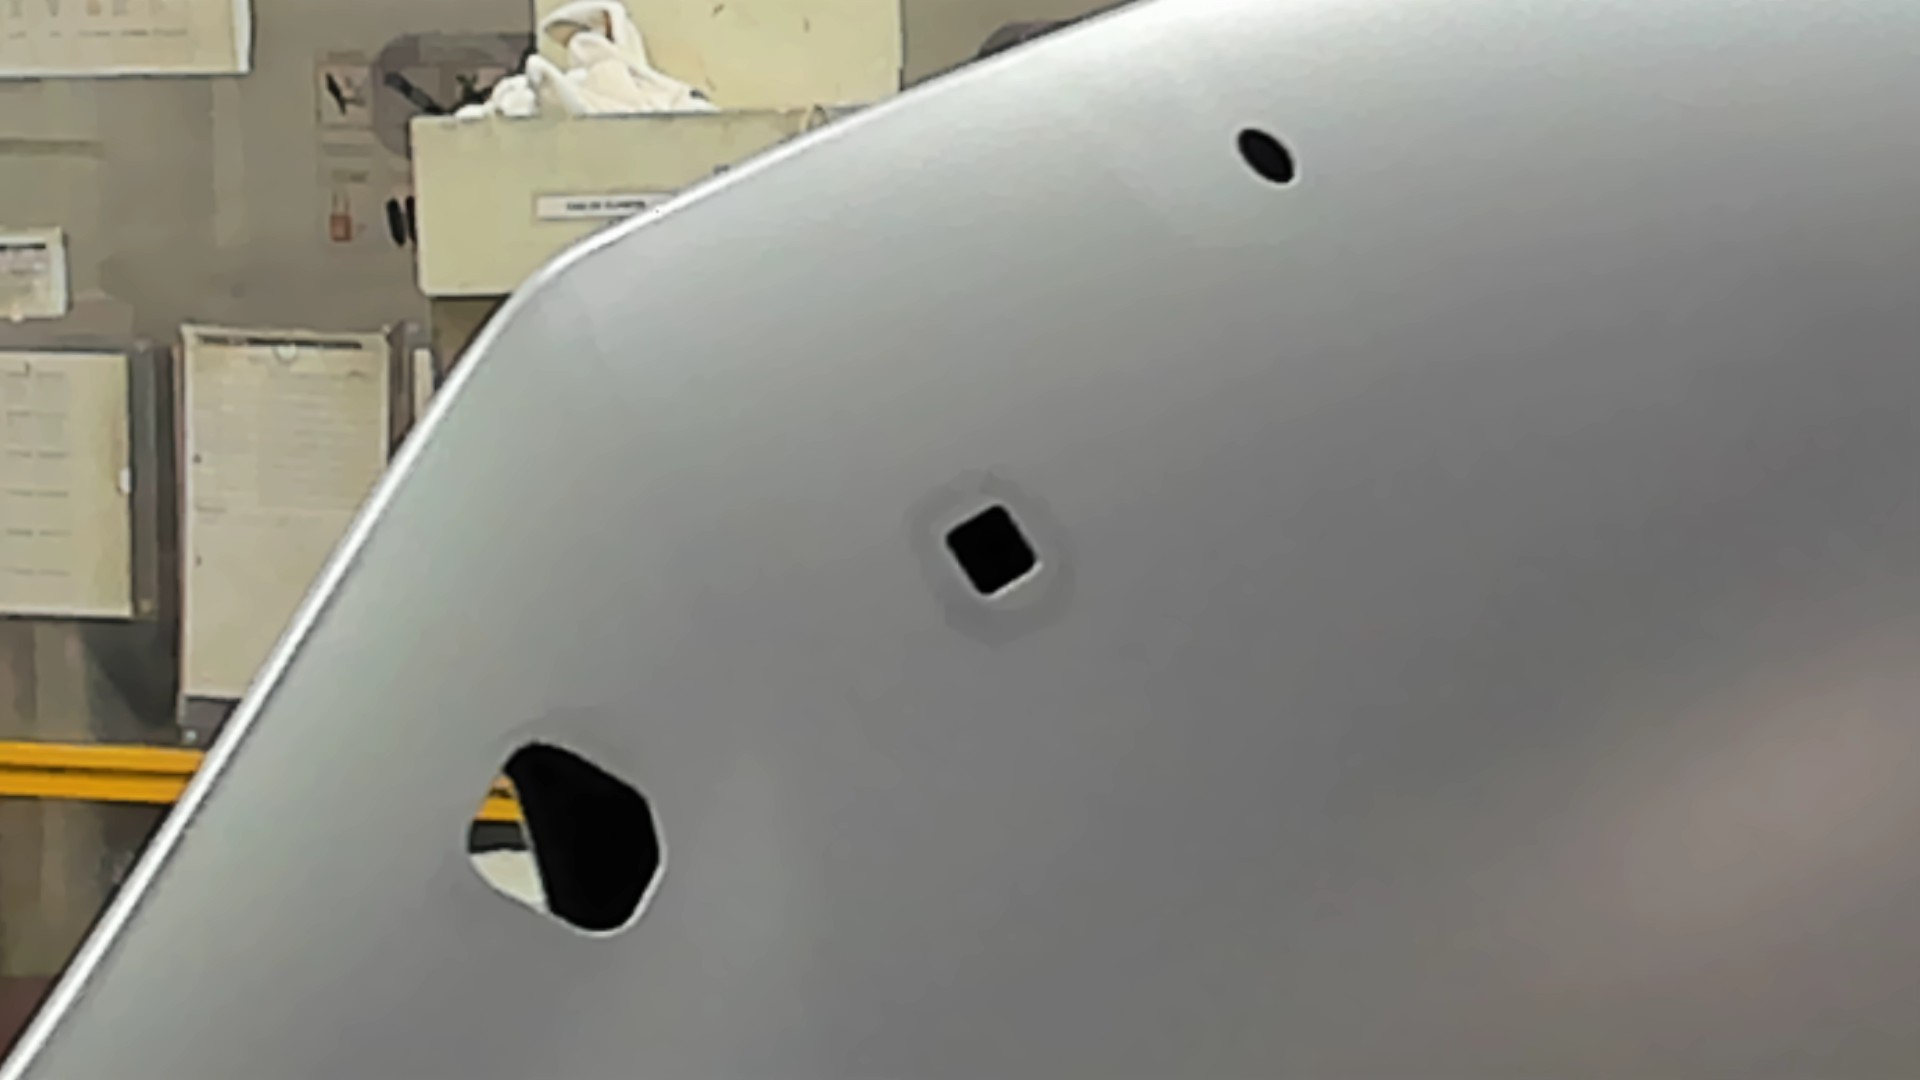chico: (1233, 124, 1298, 187)
grande: (464, 737, 671, 940)
mediano: (938, 501, 1043, 603)
